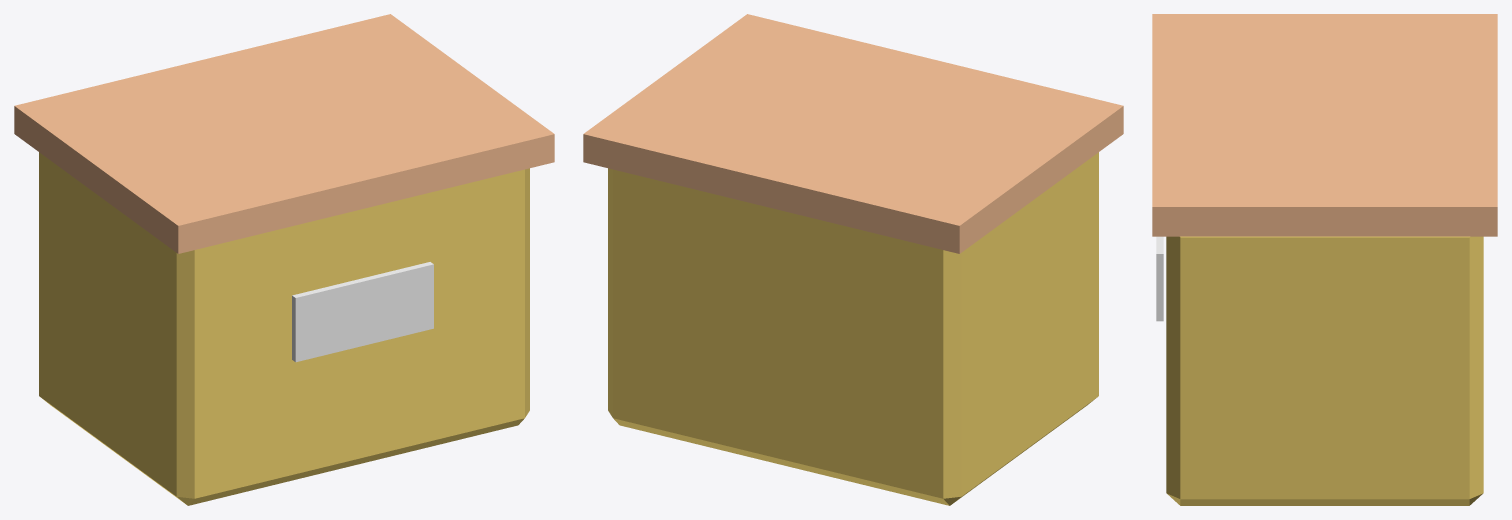
The picture shows the model from 3 angles, left to right: view 1: azimuth 30°, elevation 25°; view 2: azimuth 150°, elevation 25°; view 3: azimuth 270°, elevation 25°; orthographic projection. The views are drawn at different scales.
Parts seen in each view (by area): view 1: Box, Lid, Label; view 2: Box, Lid; view 3: Box, Lid, Label.
Part boxes in pixels (left/top/right/bottom): Box: left=39, top=152, right=529, bottom=505; Lid: left=14, top=14, right=554, bottom=253; Label: left=292, top=262, right=433, bottom=362; Box: left=608, top=152, right=1098, bottom=505; Lid: left=583, top=14, right=1123, bottom=253; Box: left=1166, top=236, right=1483, bottom=505; Lid: left=1152, top=14, right=1497, bottom=236; Label: left=1156, top=236, right=1163, bottom=321.
Bounding box in the file's own units: 49 × 36.75 × 37.
